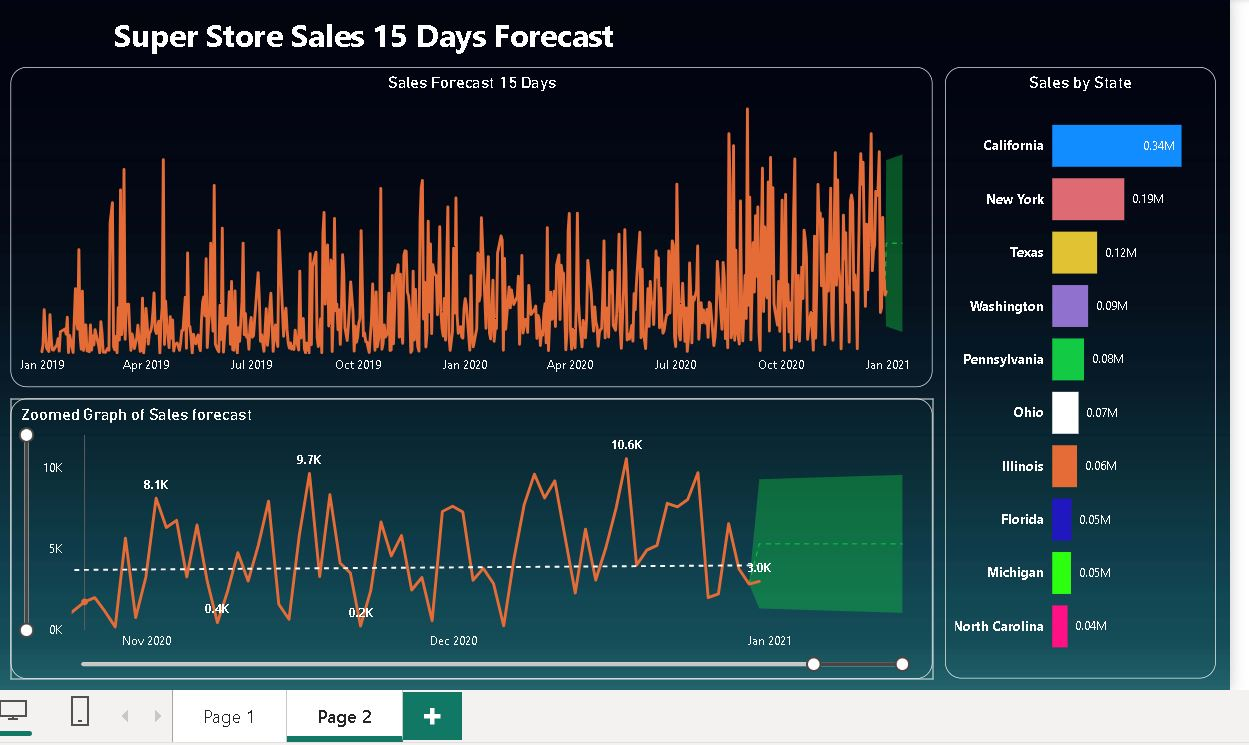

Layout of this report page (visuals, bound fields, positions):
{"tool":"powerbi","page":{"name":"Page 2","canvas":[1280,720],"ordinal":1},"visuals":[{"type":"lineChart","title":"Sales Forecast 15 Days","fields":{"Y":["Sum(SuperStore_Sales_Dataset.Sales)"],"Category":["SuperStore_Sales_Dataset.Order Date"]},"box":[11.7,71.7,960,333.3],"z":0},{"type":"lineChart","title":"Zoomed Graph of Sales forecast","fields":{"Y":["Sum(SuperStore_Sales_Dataset.Sales)"],"Category":["SuperStore_Sales_Dataset.Order Date"]},"box":[11.7,416.7,960,291.7],"z":1000},{"type":"barChart","title":"Sales by State","fields":{"Y":["Sum(SuperStore_Sales_Dataset.Sales)"],"Category":["SuperStore_Sales_Dataset.State"]},"box":[983.3,71.7,281.7,636.7],"z":1001},{"type":"textbox","box":[11.7,11.7,753.3,60],"z":1002}]}

Visuals, with their boxes in screenshot pixels (x1, y1, x2, y2):
"Sales Forecast 15 Days" lineChart: 0 29 927 373
"Zoomed Graph of Sales forecast" lineChart: 0 385 927 687
"Sales by State" barChart: 939 29 1230 687
textbox: 0 0 713 29
